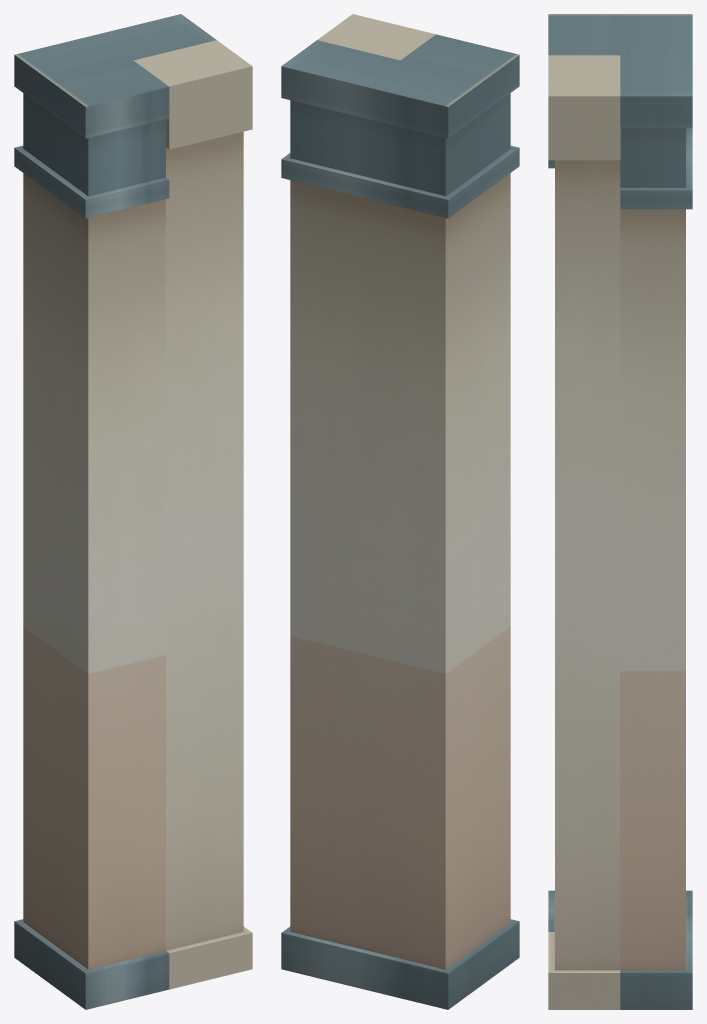
Rendered from set_pillar_01_13.fbx.
The picture shows the model from 3 angles, left to right: view 1: azimuth 30°, elevation 25°; view 2: azimuth 150°, elevation 25°; view 3: azimuth 270°, elevation 25°; orthographic projection.
Parts seen in each view (by area): view 1: set_pillar_01_13; view 2: set_pillar_01_13; view 3: set_pillar_01_13.
Boxes of the visible parts, x1,y1,x2,y2 form: set_pillar_01_13: (14,14,252,1009); set_pillar_01_13: (281,14,519,1009); set_pillar_01_13: (548,14,692,1009).
Size of the model in its own units: 58 by 300 by 43.
